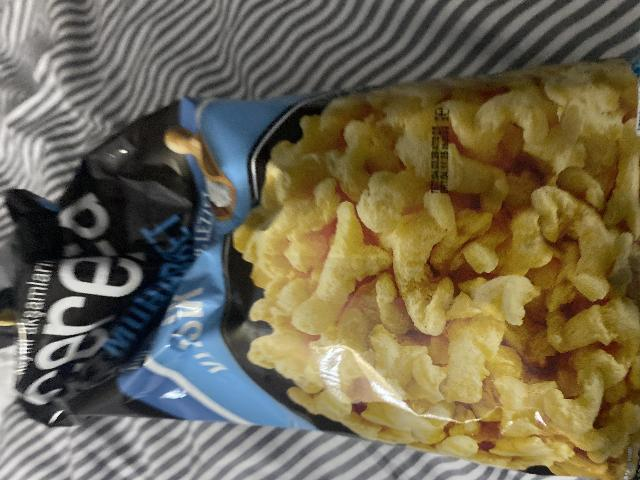Plastik: (10, 81, 640, 468)
